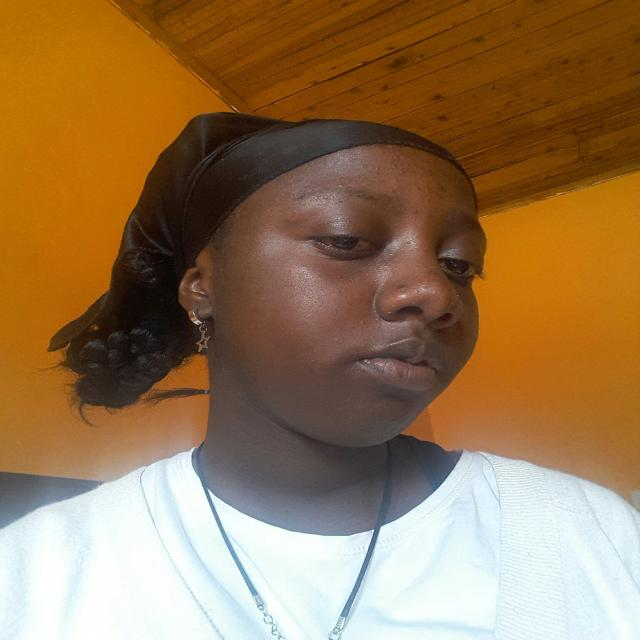Acne: (363, 162, 381, 170), (417, 186, 430, 195), (396, 283, 410, 291), (237, 273, 248, 282), (394, 154, 408, 160), (388, 177, 401, 183), (412, 208, 421, 216), (404, 238, 413, 246), (428, 168, 436, 176), (386, 188, 396, 194), (439, 185, 448, 191), (389, 164, 398, 169), (336, 183, 345, 188), (388, 148, 396, 153), (398, 170, 406, 175), (425, 159, 433, 163), (430, 270, 438, 274), (412, 170, 418, 173)
Eyebags: (304, 243, 384, 280)
